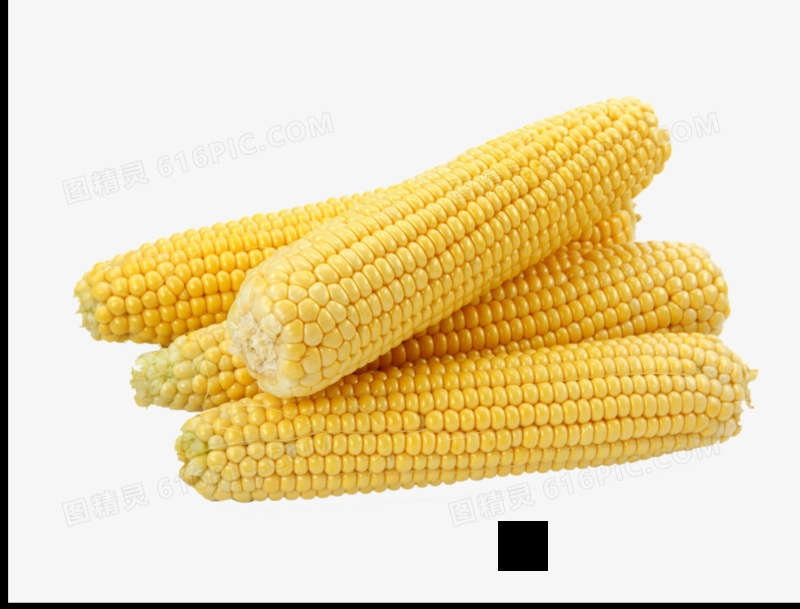corn: (251, 101, 661, 382), (69, 142, 644, 342), (133, 236, 731, 409), (196, 329, 751, 503)
